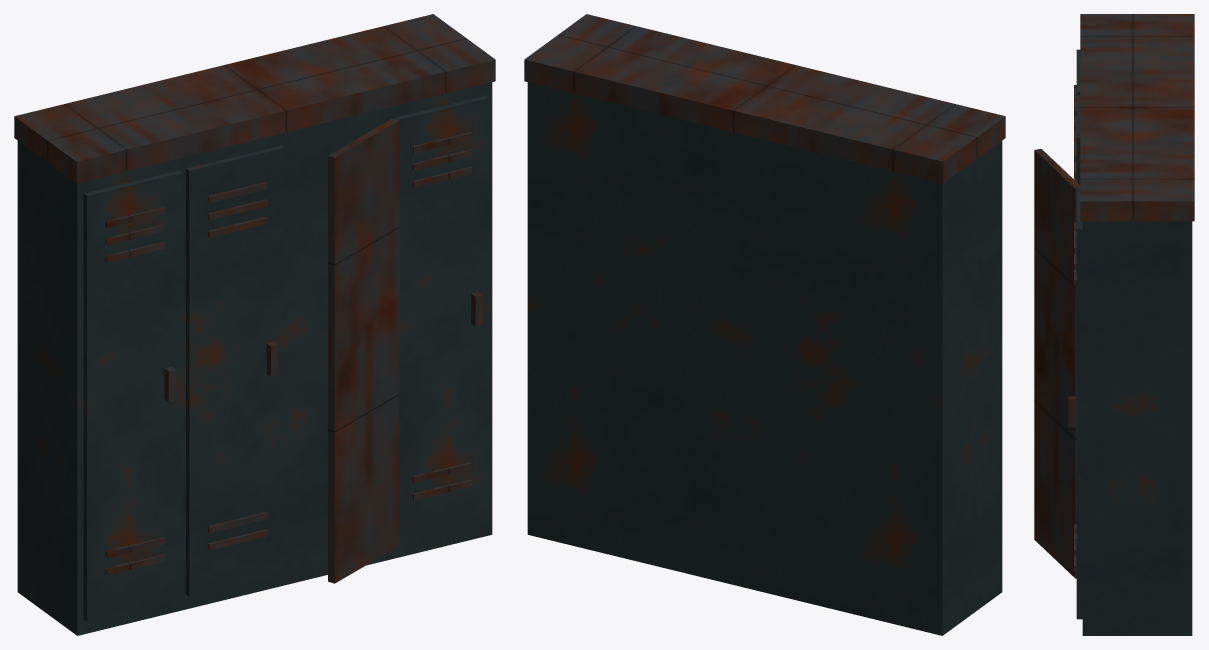
File: Prop_MetalLocker.fbx
The picture shows the model from 3 angles, left to right: view 1: azimuth 30°, elevation 25°; view 2: azimuth 150°, elevation 25°; view 3: azimuth 270°, elevation 25°; orthographic projection. The views are drawn at different scales.
Parts seen in each view (by area): view 1: Prop_MetalLocker; view 2: Prop_MetalLocker; view 3: Prop_MetalLocker.
Boxes of the visible parts, x1=… form: Prop_MetalLocker: x1=14, y1=14, x2=495, y2=635; Prop_MetalLocker: x1=524, y1=14, x2=1005, y2=635; Prop_MetalLocker: x1=1034, y1=14, x2=1194, y2=635.
Size of the model in its own units: 2.02 by 2.19 by 0.7298.
